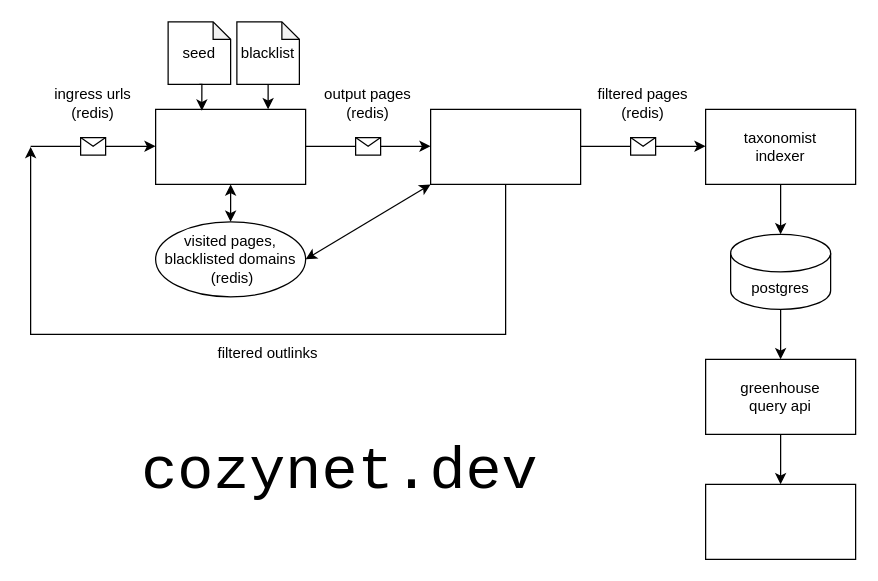
Image size: 878x581. Some labels were removed from this diagram. The centre of each missing label's shape, as x and y in pixels:
"cozynet frontend" belongs at (780,521).
"fungicide classifier/filter" belongs at (505,146).
"mycelium crawler" belongs at (230,146).
